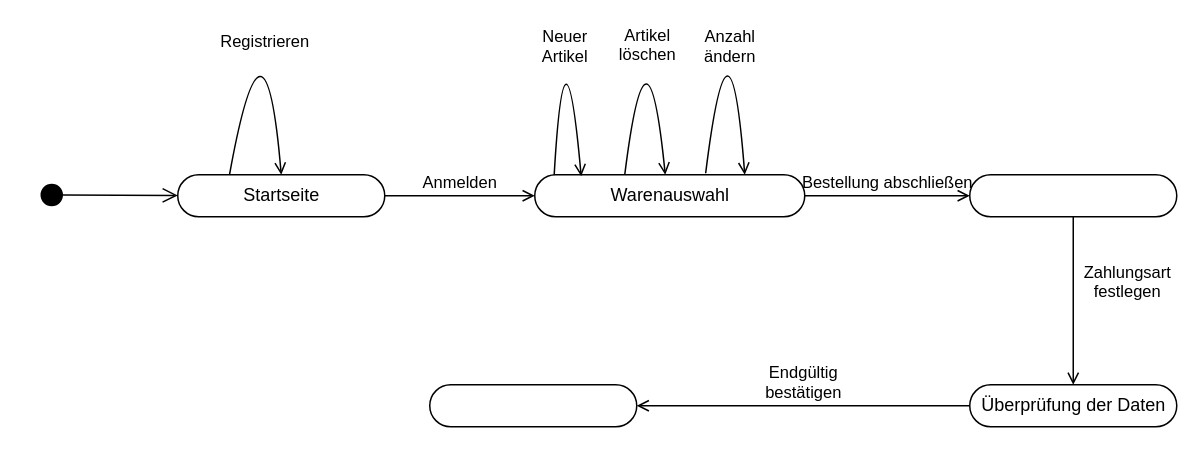
The diagram is 1203 pixels wide and 455 high, and some of its shapes have lost their labels. The box of each missing label's shape, as (x1, y1, x2, y2) in pixels:
Fertig: (428, 383, 637, 427)
Zahlungsart wählen: (968, 173, 1177, 217)
